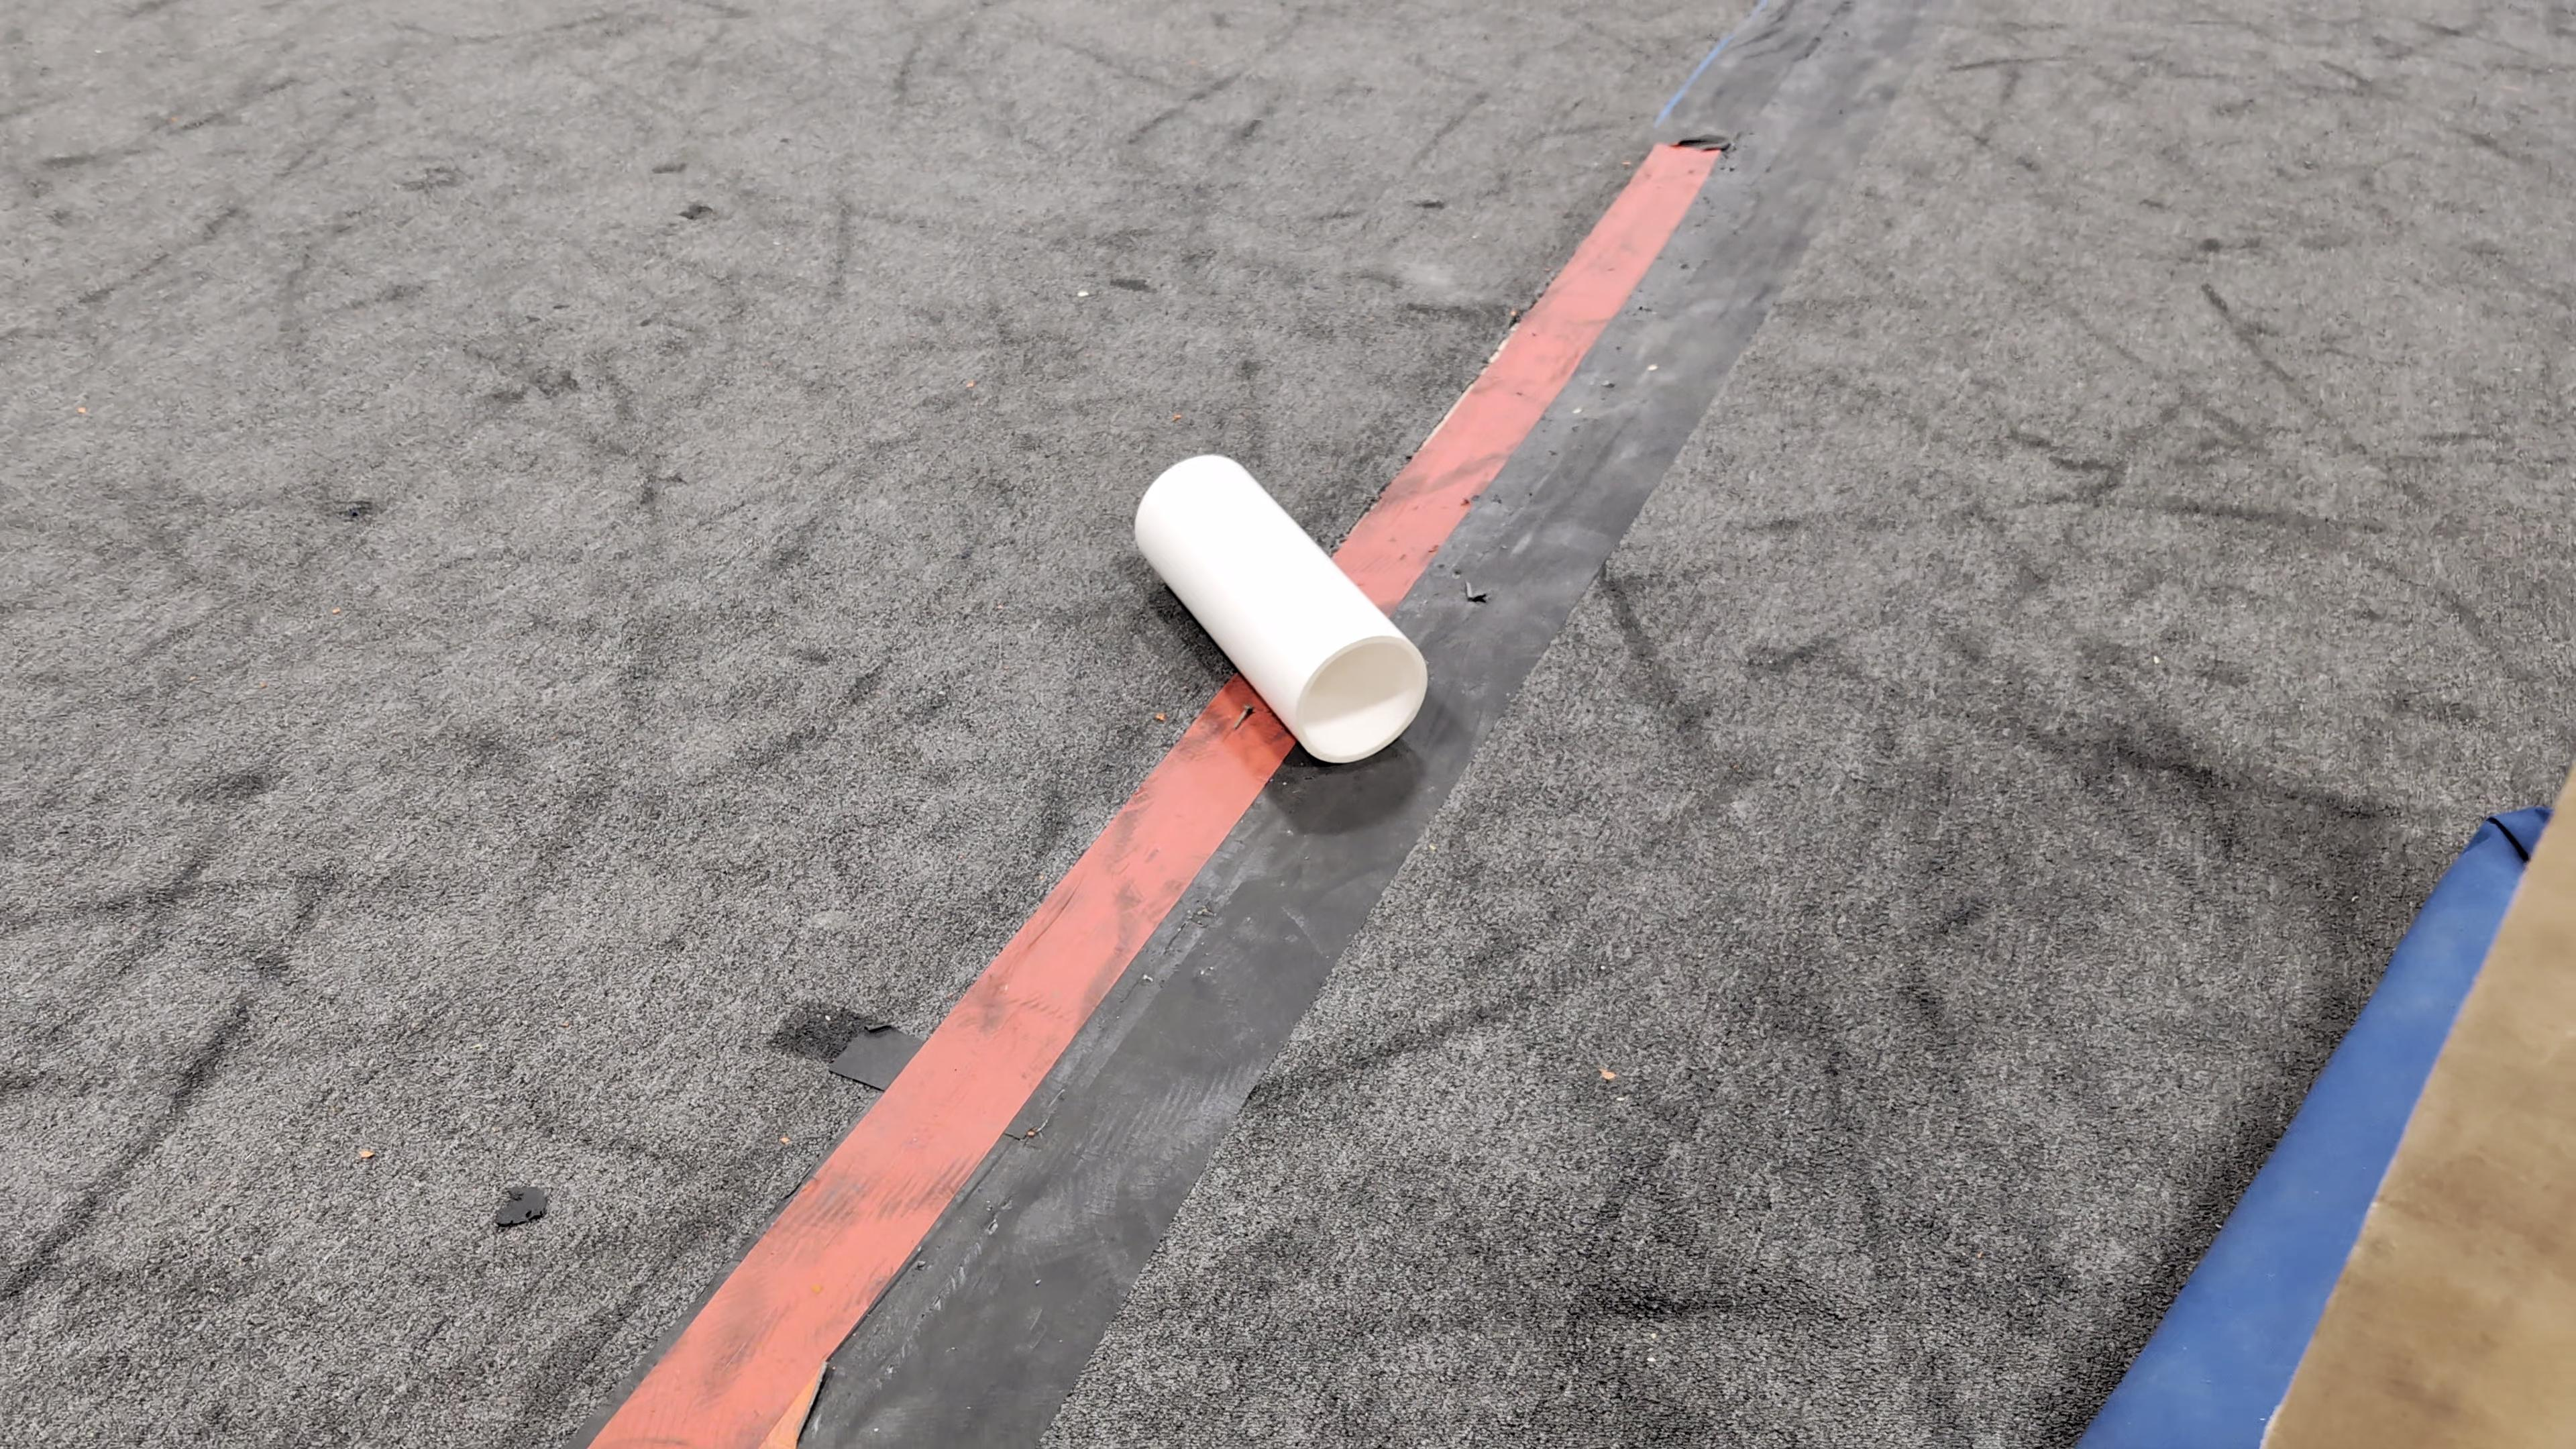coral: (1136, 455, 1430, 764)
